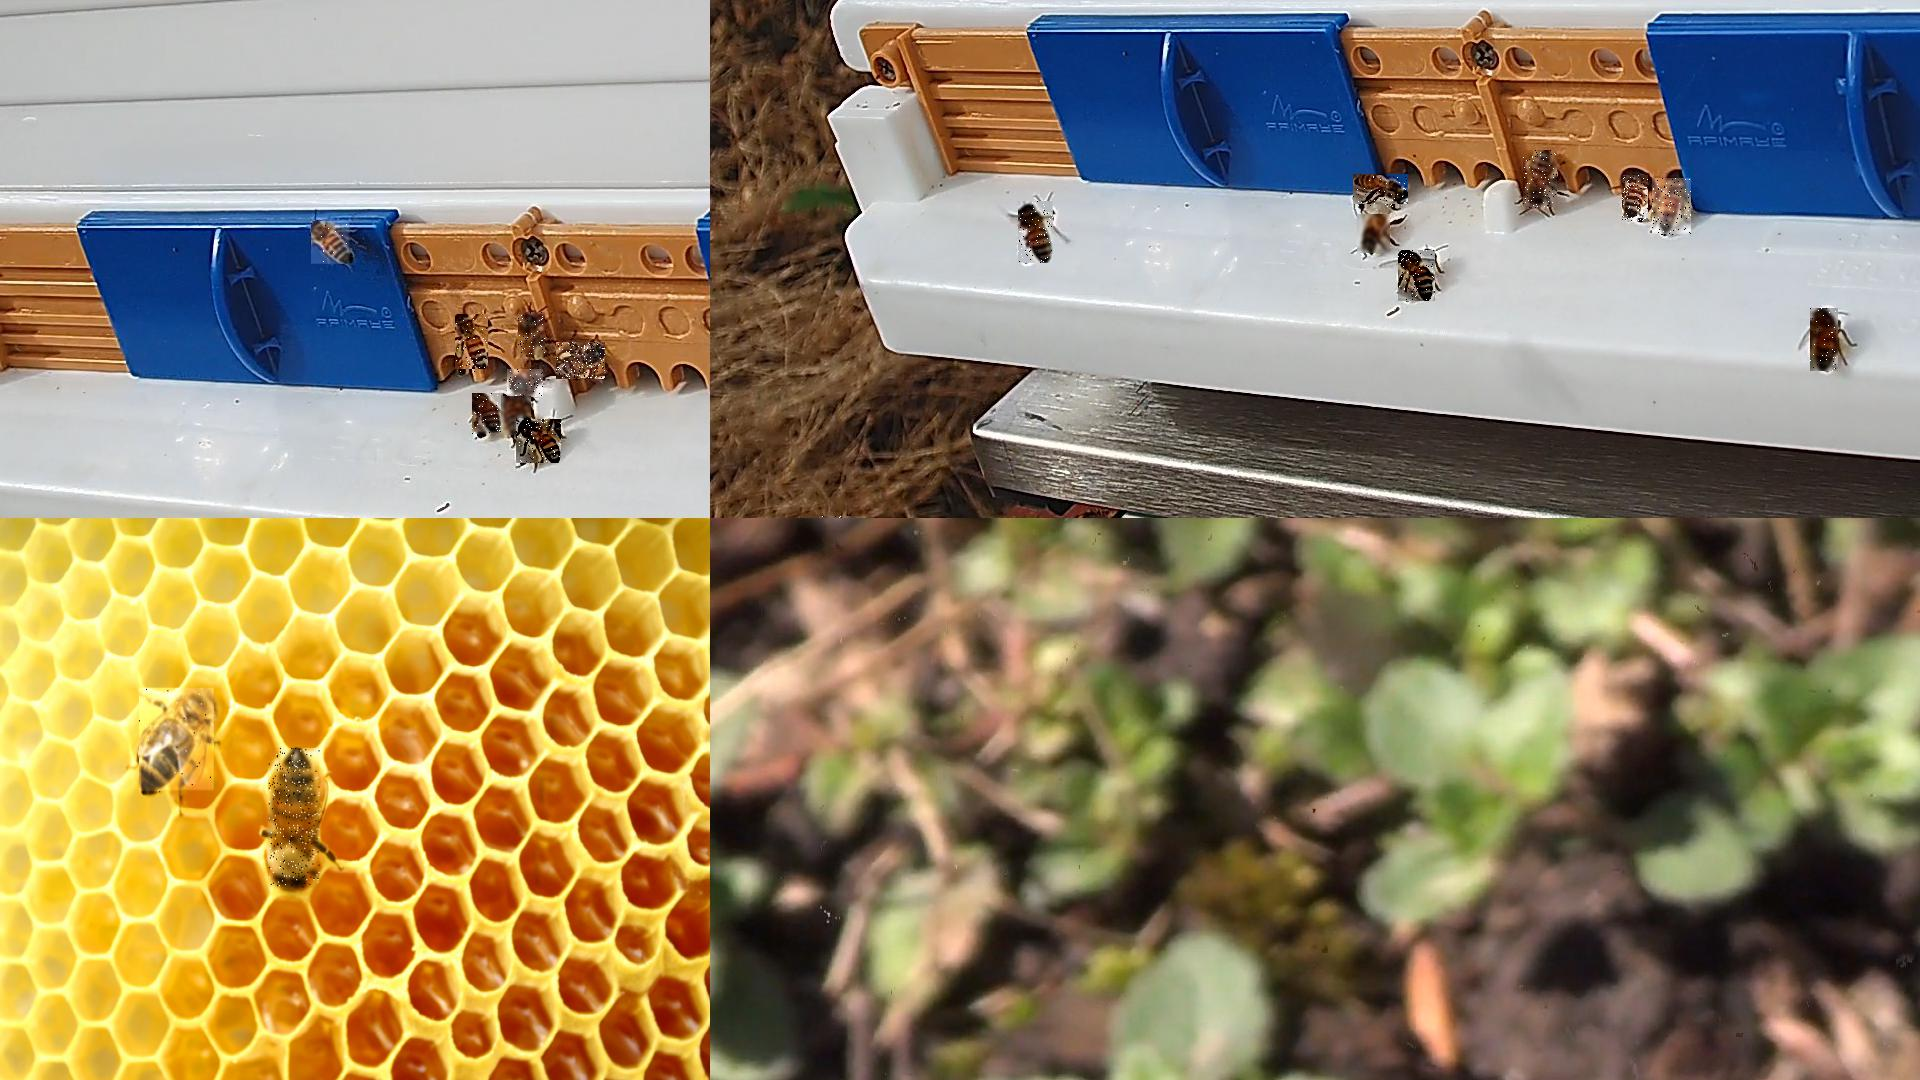bee: (140, 688, 215, 794), (268, 748, 320, 889), (1018, 200, 1054, 264), (1398, 251, 1436, 302), (1353, 175, 1410, 208), (1811, 309, 1840, 372), (313, 222, 353, 265), (1357, 214, 1391, 255), (472, 394, 504, 436), (1622, 175, 1650, 223), (508, 369, 545, 398)
pollenbee: (1652, 179, 1692, 237), (1523, 150, 1559, 210), (516, 419, 562, 464), (455, 315, 489, 373), (556, 342, 607, 380), (501, 397, 533, 438), (518, 313, 546, 357)
